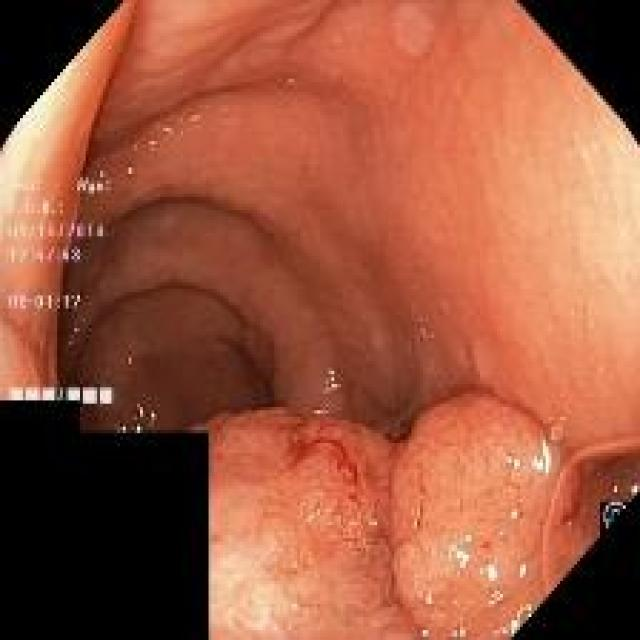Polyps: (201, 409, 418, 640), (391, 395, 559, 640)
